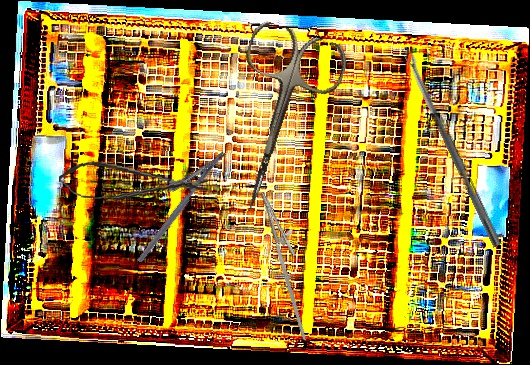Iris Scissors: (201, 18, 352, 223)
Micro Scissor: (57, 158, 210, 209)
Needle Holder: (242, 187, 336, 341), (121, 138, 227, 264)
Surgical Spoon: (404, 52, 503, 248)
